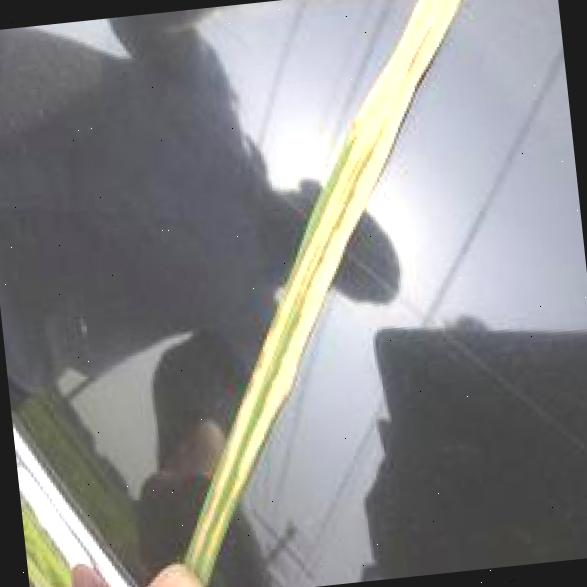Bacteria_Leaf_Blight: (135, 0, 490, 565)
